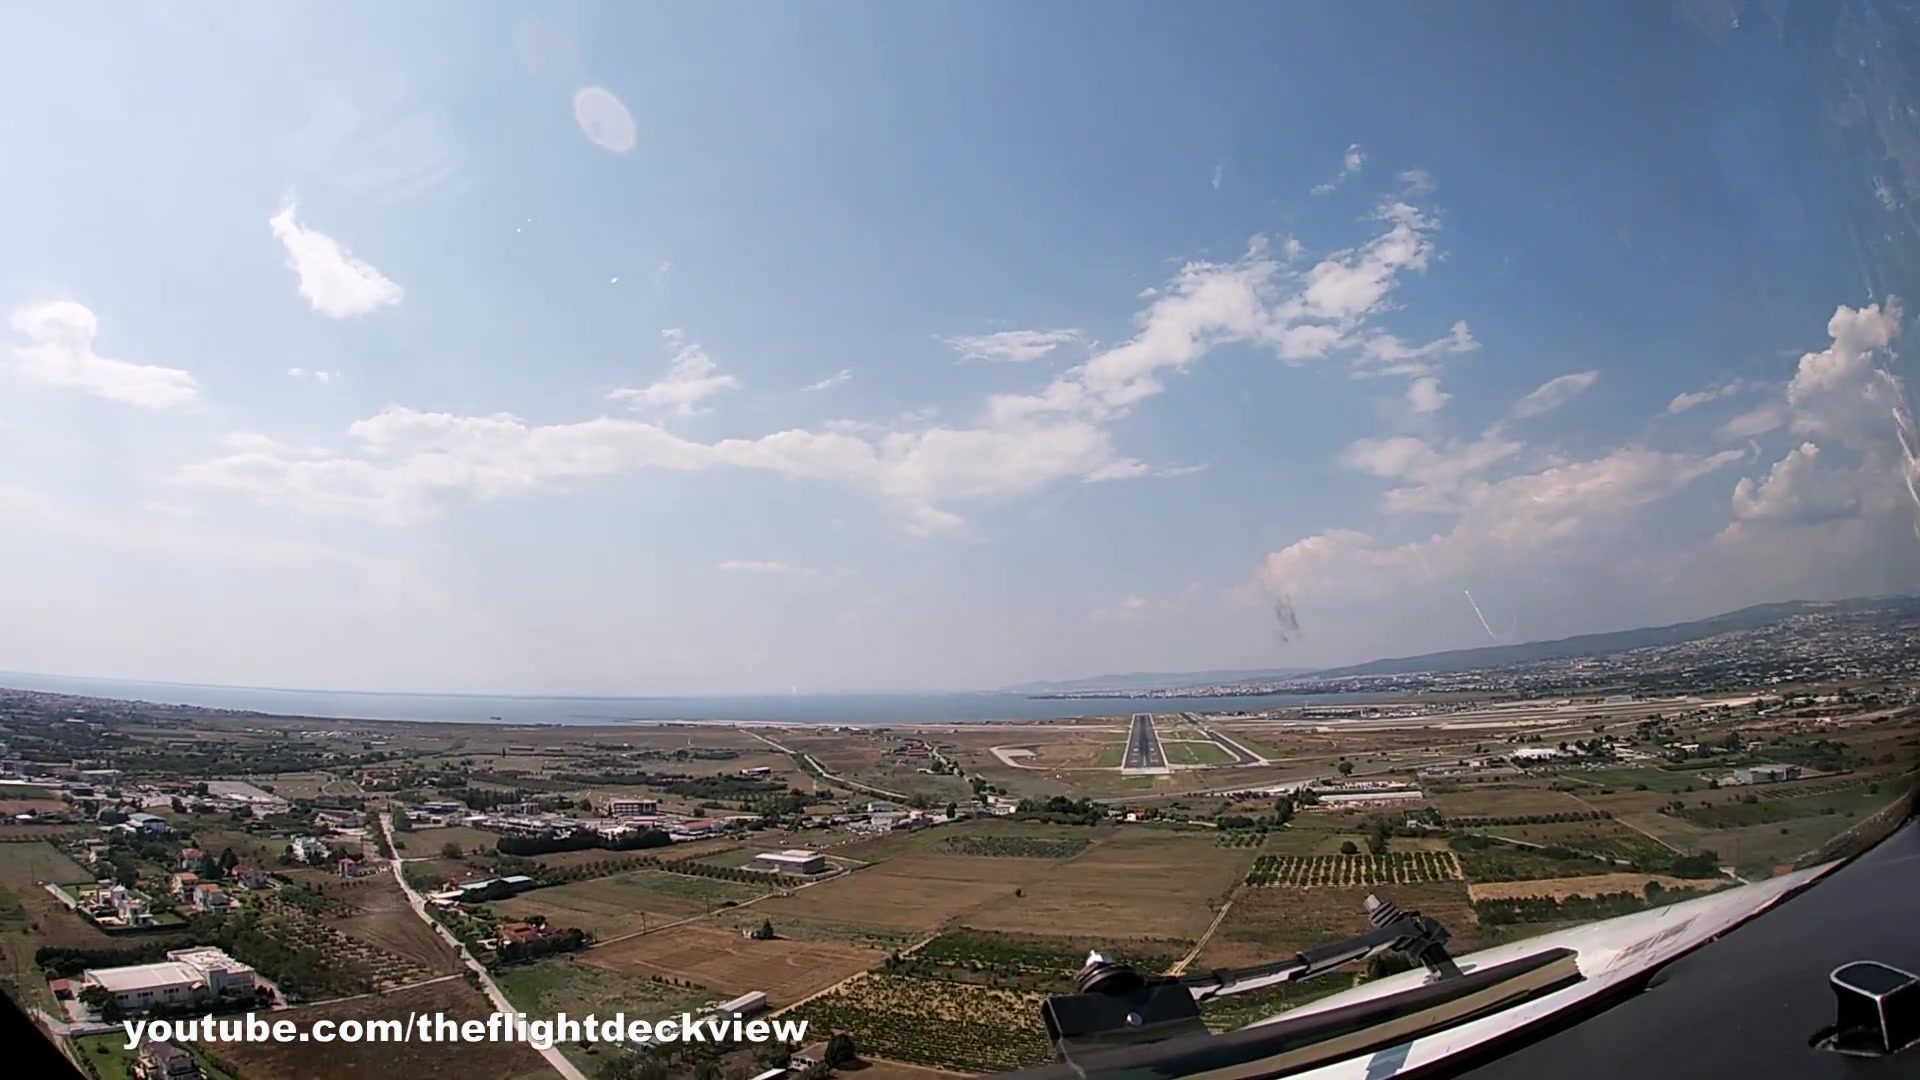runway: (1118, 716, 1170, 775)
